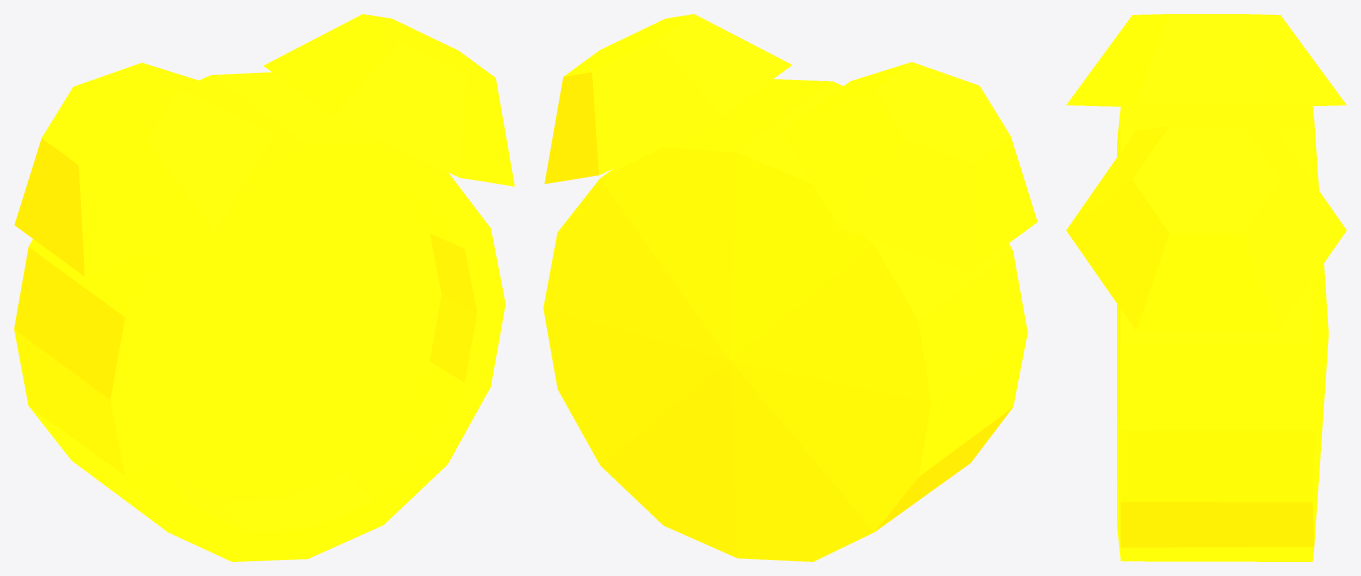
File: AlarmRim.glb
3 views of the same model, side by side, from view 1: azimuth 30°, elevation 25°; view 2: azimuth 150°, elevation 25°; view 3: azimuth 270°, elevation 25° (orthographic).
Parts seen in each view (by area): view 1: Cylinder.001; view 2: Cylinder.001; view 3: Cylinder.001.
Boxes of the visible parts, x1,y1,x2,y2 form: Cylinder.001: (14,14,514,561); Cylinder.001: (543,14,1037,561); Cylinder.001: (1066,14,1346,561).
Size of the model in its own units: 2.21 by 2.34 by 1.25.
